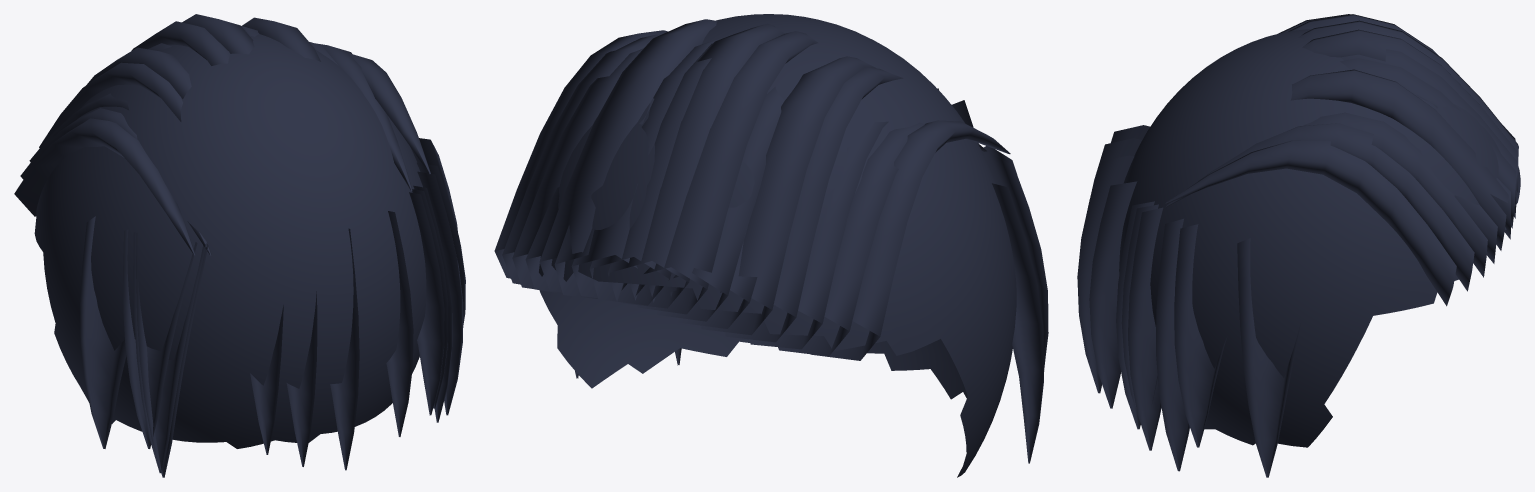
The model's file is anime_hair_swept.glb.
3 views of the same model, side by side, from view 1: azimuth 30°, elevation 25°; view 2: azimuth 150°, elevation 25°; view 3: azimuth 270°, elevation 25° (orthographic). The views are drawn at different scales.
Visible parts, largest first — view 1: hair_cap, hair; view 2: hair, hair_cap; view 3: hair, hair_cap.
Boxes of the visible parts, x1,y1,x2,y2 form: hair_cap: [34, 34, 426, 448]; hair: [14, 14, 465, 477]; hair: [494, 19, 1048, 463]; hair_cap: [539, 14, 1016, 477]; hair: [1077, 14, 1518, 477]; hair_cap: [1119, 29, 1520, 447].
Bounding box in the file's own units: 0.3098 × 0.2843 × 0.3076.
